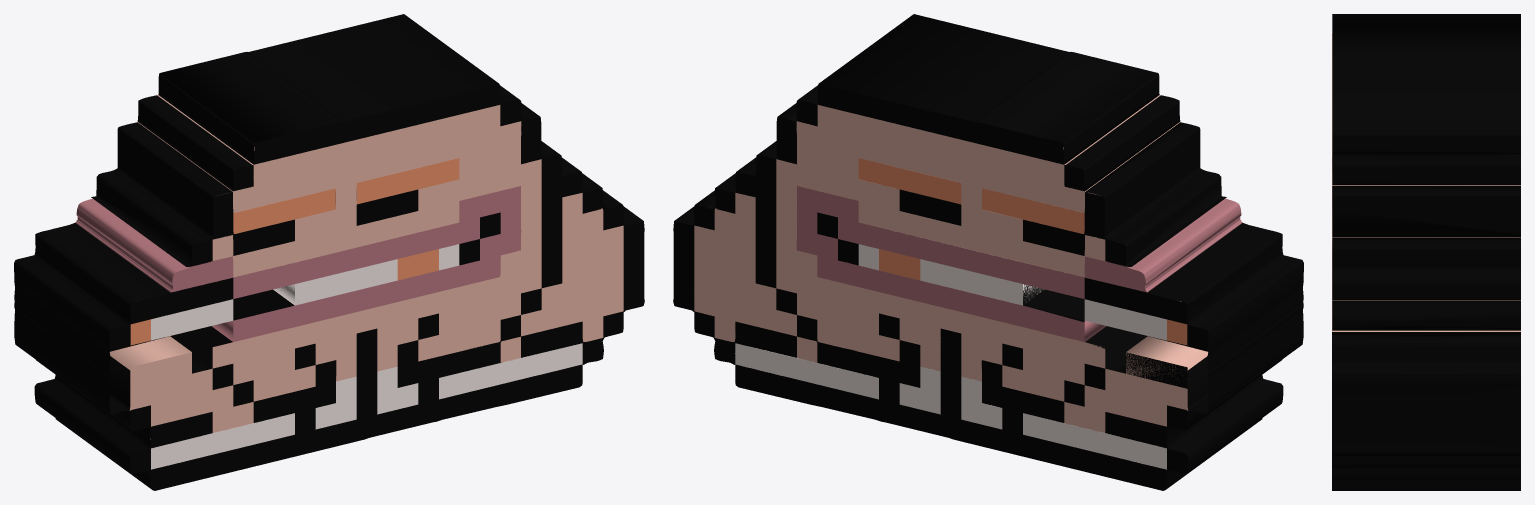
Rendered from Toadz_1683.glb.
3 views of the same model, side by side, from view 1: azimuth 30°, elevation 25°; view 2: azimuth 150°, elevation 25°; view 3: azimuth 270°, elevation 25° (orthographic).
Parts seen in each view (by area): view 1: Curve; view 2: Curve; view 3: Curve.
Boxes of the visible parts, x1,y1,x2,y2 form: Curve: (14,14,644,490); Curve: (673,14,1303,490); Curve: (1332,14,1520,490).
Size of the model in its own units: 3.24 by 1.87 by 1.
